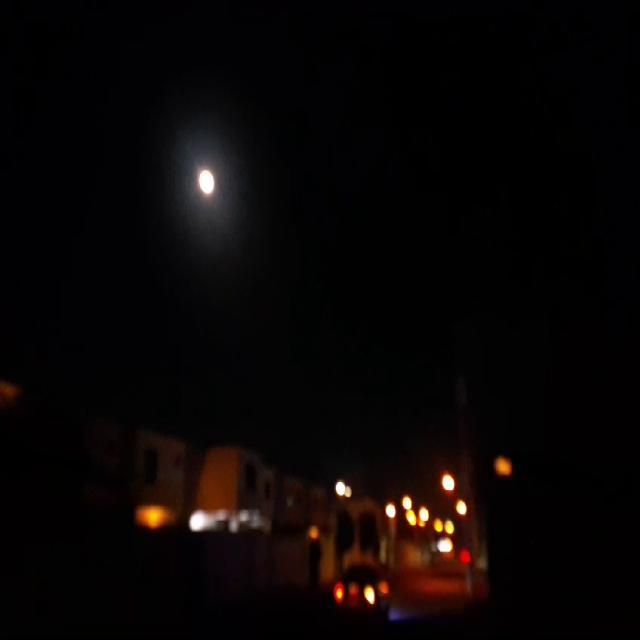moon: (194, 166, 214, 200)
